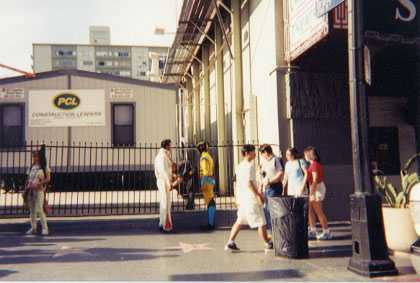person: (224, 145, 275, 251)
